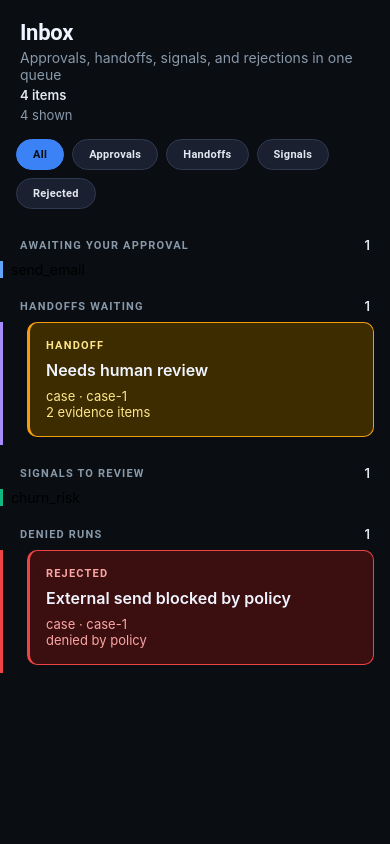
Test case: InboxScreen › filters the feed to signals
This screenshot has width=390, height=844.
Step 1. Click the element with test id "inbox-chip-signal" → (293,154), box [256, 139, 329, 170]
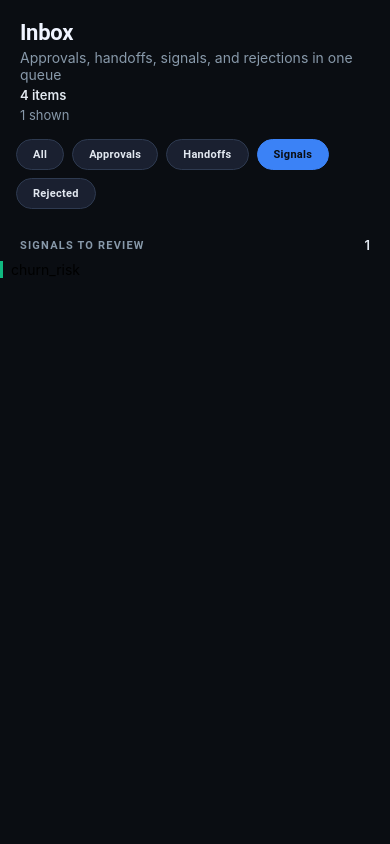
Now the element with test id "inbox-handoff-run-1" is gone
